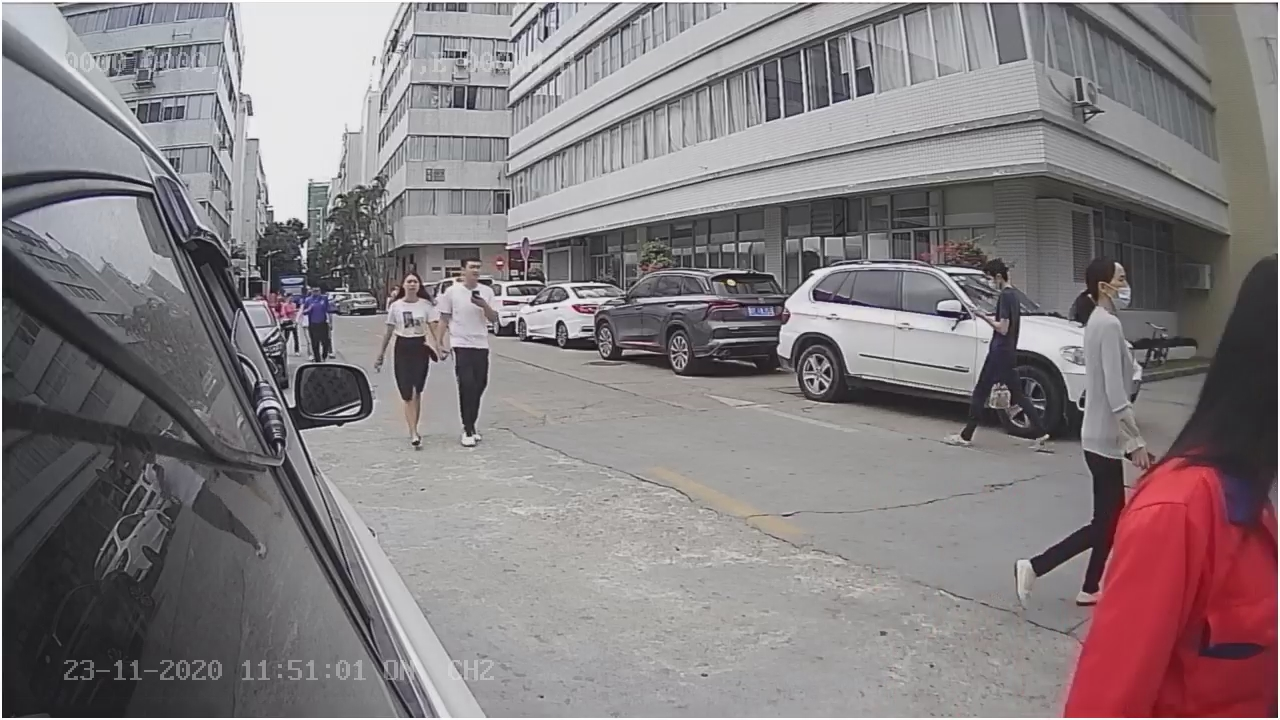person: (942, 242, 1054, 457), (372, 268, 445, 448)
